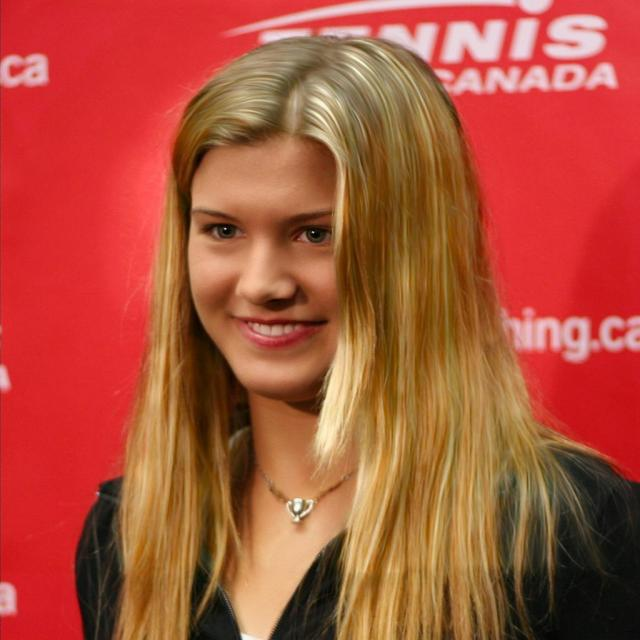Face: (175, 131, 385, 393)
